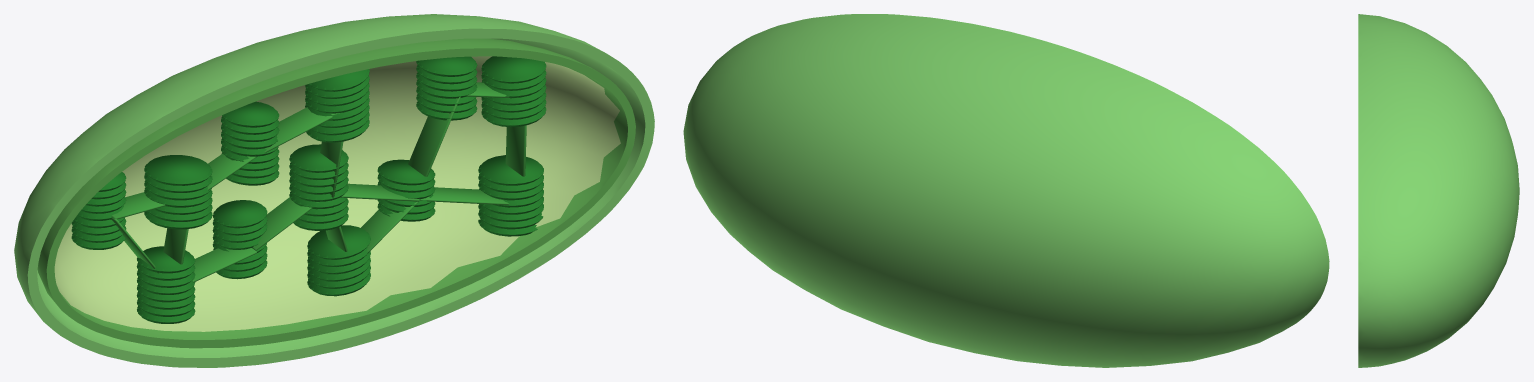
The model's file is 08_chloroplast.glb.
The picture shows the model from 3 angles, left to right: view 1: azimuth 30°, elevation 25°; view 2: azimuth 150°, elevation 25°; view 3: azimuth 270°, elevation 25°; orthographic projection. The views are drawn at different scales.
Visible parts, largest first — view 1: CP_Stroma, CP_Disc_Stacks, CP_Outer_Membrane, CP_Inner_Membrane, CP_Connecting_Sheets; view 2: CP_Outer_Membrane; view 3: CP_Outer_Membrane.
Boxes of the visible parts, x1=… form: CP_Stroma: x1=54, y1=56, x2=620, y2=331; CP_Disc_Stacks: x1=71, y1=56, x2=546, y2=323; CP_Outer_Membrane: x1=14, y1=14, x2=654, y2=367; CP_Inner_Membrane: x1=37, y1=38, x2=635, y2=348; CP_Connecting_Sheets: x1=111, y1=82, x2=526, y2=282; CP_Outer_Membrane: x1=683, y1=14, x2=1329, y2=367; CP_Outer_Membrane: x1=1358, y1=14, x2=1519, y2=367.
Size of the model in its own units: 1.99 by 0.9177 by 0.5405.
